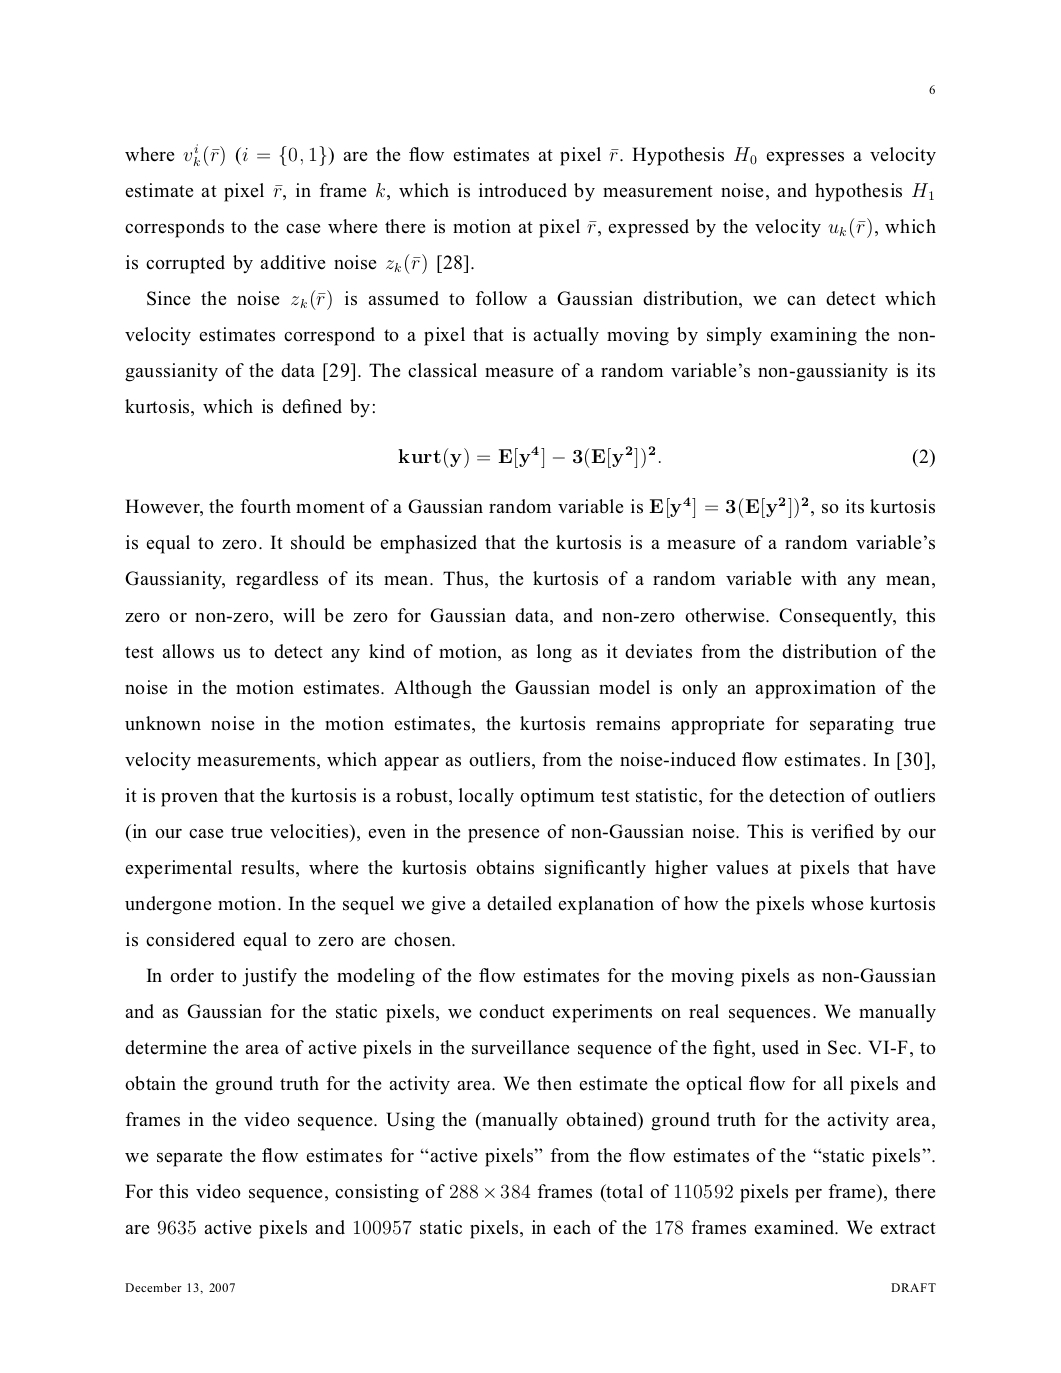formula: (398, 445, 934, 468)
